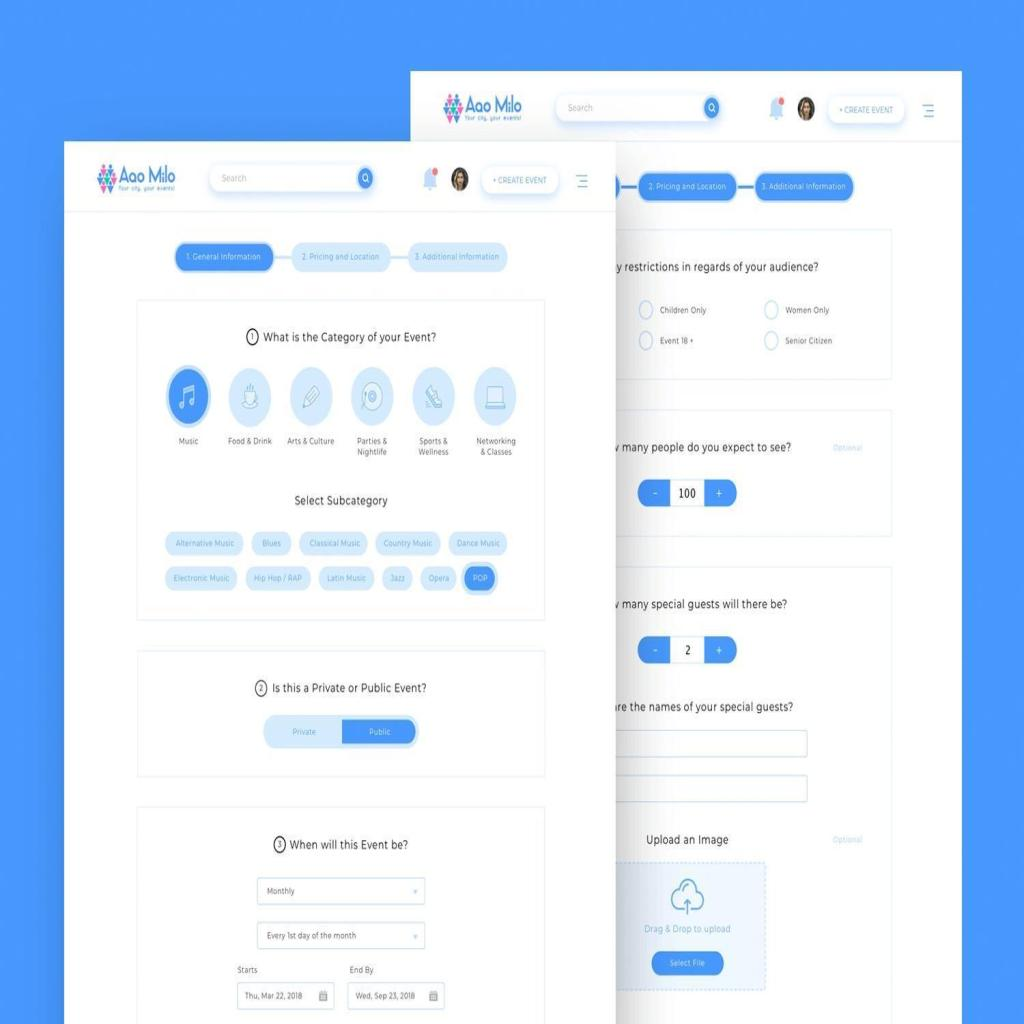button: (828, 93, 906, 126), (480, 163, 560, 194), (164, 564, 238, 596), (244, 563, 312, 594), (296, 529, 370, 557), (651, 950, 724, 977), (165, 532, 245, 556), (319, 563, 375, 595), (448, 529, 508, 558), (376, 532, 442, 556), (419, 561, 458, 592), (461, 562, 498, 594), (251, 532, 292, 557), (382, 565, 414, 592)
dropdown: (258, 877, 426, 906), (258, 922, 426, 948)
icon: (448, 161, 472, 198), (359, 382, 387, 413), (174, 381, 201, 412), (483, 381, 507, 414), (242, 383, 262, 417), (303, 381, 323, 413), (796, 93, 818, 121), (422, 161, 441, 193), (424, 382, 443, 414), (769, 95, 787, 124)
input: (207, 158, 381, 198), (348, 982, 445, 1009), (238, 982, 334, 1009)
label: (476, 433, 519, 462), (355, 433, 392, 459), (418, 437, 454, 460), (226, 434, 274, 450), (785, 331, 835, 346), (286, 434, 336, 448), (659, 302, 708, 316), (784, 304, 831, 318), (659, 335, 693, 347), (177, 435, 200, 449)
radio: (764, 327, 779, 352), (639, 296, 653, 322), (638, 328, 653, 352), (764, 298, 780, 320)
switch: (262, 714, 419, 749)
